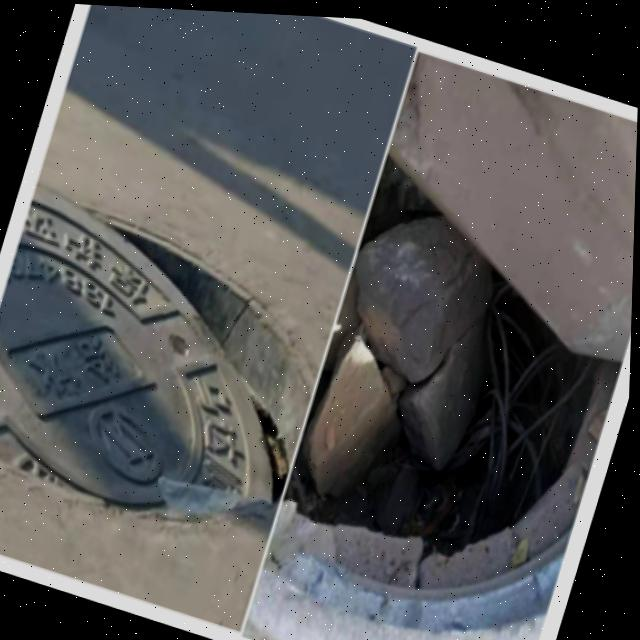manhole: (257, 125, 637, 640), (0, 174, 344, 545)
